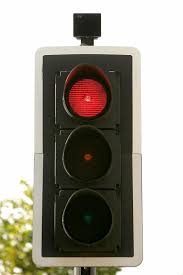red: (36, 53, 138, 262), (54, 71, 120, 252)
